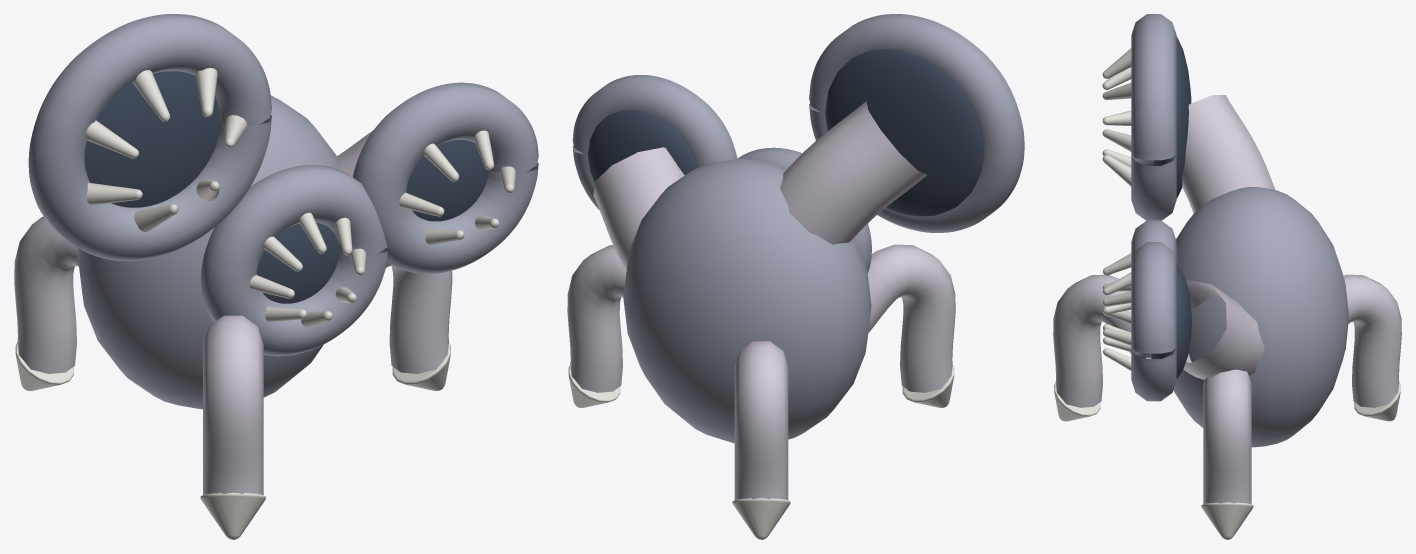
The model's file is bio_manymouth_01_near.glb.
3 renders of one model, left to right at view 1: azimuth 30°, elevation 25°; view 2: azimuth 150°, elevation 25°; view 3: azimuth 270°, elevation 25°, orthographic. The views are drawn at different scales.
Visible parts, largest first — view 1: Raised oral lip.001, Central branching knot, Raised oral lip, Raised oral lip.002, Recessed mouth cavity.001, Crooked support.002, Crooked support.001, Crooked support, Inward tooth.006, Recessed mouth cavity, Recessed mouth cavity.002, Inward tooth.013 (+4 smaller); view 2: Central branching knot, Recessed mouth cavity.001, Raised oral lip.001, Bent oral neck.001, Crooked support.002, Crooked support.001, Raised oral lip, Crooked support, Bent oral neck, Recessed mouth cavity, Contact spur.001, Raised oral lip.002 (+2 smaller); view 3: Central branching knot, Raised oral lip.001, Raised oral lip, Bent oral neck.001, Crooked support, Crooked support.002, Crooked support.001, Bent oral neck, Inward tooth.006, Recessed mouth cavity.001, Inward tooth, Recessed mouth cavity (+5 smaller).
Part boxes in pixels (x1,y1,x2,y2): Raised oral lip.001: [28, 14, 271, 261]; Central branching knot: [77, 95, 339, 409]; Raised oral lip: [353, 82, 538, 273]; Raised oral lip.002: [201, 165, 387, 356]; Recessed mouth cavity.001: [84, 71, 220, 207]; Crooked support.002: [203, 315, 263, 502]; Crooked support.001: [14, 216, 78, 373]; Crooked support: [386, 262, 452, 373]; Inward tooth.006: [85, 68, 247, 231]; Recessed mouth cavity: [406, 140, 488, 221]; Recessed mouth cavity.002: [257, 222, 338, 303]; Inward tooth.013: [249, 212, 366, 327]; Central branching knot: [623, 159, 871, 443]; Recessed mouth cavity.001: [825, 49, 983, 216]; Raised oral lip.001: [809, 14, 1024, 232]; Bent oral neck.001: [780, 101, 926, 244]; Crooked support.002: [867, 244, 955, 392]; Crooked support.001: [734, 341, 788, 507]; Raised oral lip: [572, 75, 737, 209]; Crooked support: [567, 245, 626, 392]; Bent oral neck: [593, 147, 684, 270]; Recessed mouth cavity: [588, 110, 697, 182]; Contact spur.001: [732, 498, 790, 539]; Raised oral lip.002: [737, 147, 871, 272]; Central branching knot: [1173, 187, 1348, 447]; Raised oral lip.001: [1131, 14, 1176, 220]; Raised oral lip: [1131, 242, 1176, 401]; Bent oral neck.001: [1182, 95, 1275, 213]; Crooked support: [1203, 369, 1251, 510]; Crooked support.002: [1053, 274, 1131, 407]; Crooked support.001: [1343, 274, 1401, 407]; Bent oral neck: [1183, 280, 1264, 379]; Inward tooth.006: [1102, 48, 1131, 186]; Recessed mouth cavity.001: [1154, 37, 1191, 198]; Inward tooth: [1103, 272, 1131, 370]; Recessed mouth cavity: [1151, 264, 1191, 378].
Size of the model in its own units: 1.82 by 1.68 by 1.38.
